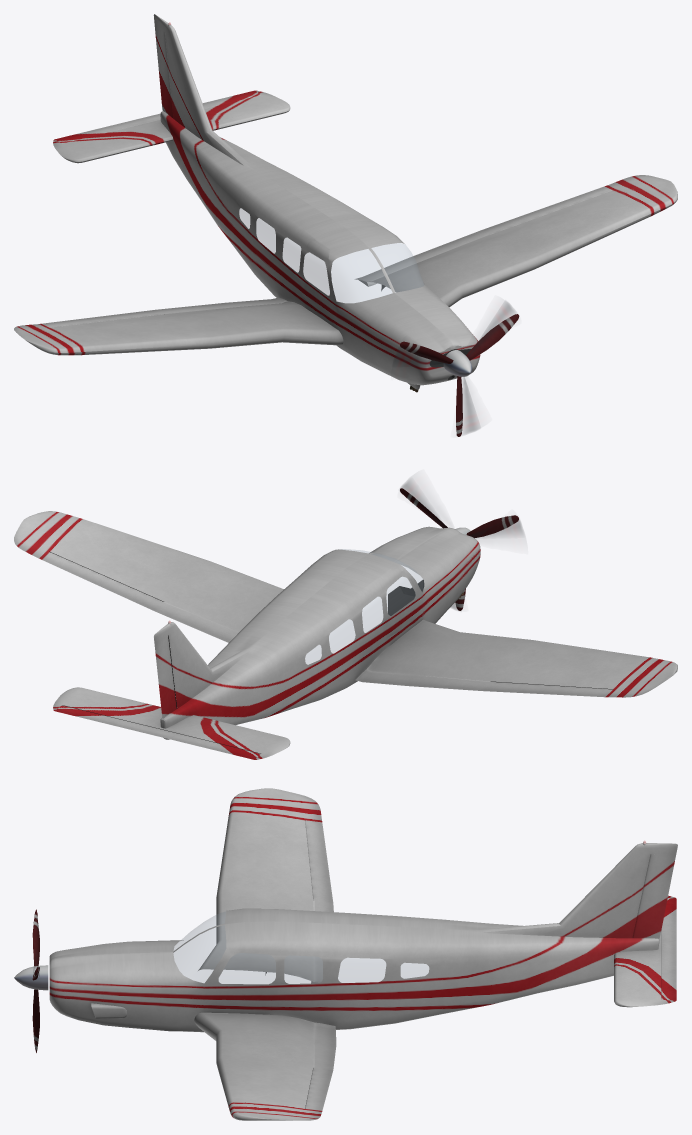
The picture shows the model from 3 angles, top to bottom: view 1: azimuth 30°, elevation 25°; view 2: azimuth 150°, elevation 25°; view 3: azimuth 270°, elevation 25°; orthographic projection. The views are drawn at different scales.
Parts seen in each view (by area): view 1: fuselage, ailes, vitres, ailes2, helice, propblur, porte, voletG, profondeur, aileronG, direction, voletD (+2 smaller); view 2: fuselage, ailes, ailes2, profondeur, vitres, aileronG, voletD, porte, aileronD, direction, voletG, helice (+3 smaller); view 3: fuselage, ailes, vitres, ailes2, direction, aileronD, profondeur, voletG, aileronG, helice, bol.
Boxes of the visible parts, bbox=[...] form: fuselage: bbox=[153, 14, 480, 385]; ailes: bbox=[14, 175, 677, 355]; vitres: bbox=[239, 208, 423, 302]; ailes2: bbox=[53, 90, 290, 163]; helice: bbox=[400, 314, 519, 436]; propblur: bbox=[394, 303, 513, 432]; porte: bbox=[301, 239, 332, 323]; voletG: bbox=[357, 230, 489, 286]; profondeur: bbox=[55, 90, 260, 143]; aileronG: bbox=[481, 186, 612, 234]; direction: bbox=[154, 24, 173, 118]; voletD: bbox=[155, 298, 286, 313]; fuselage: bbox=[154, 526, 480, 739]; ailes: bbox=[14, 511, 677, 697]; ailes2: bbox=[53, 687, 290, 759]; profondeur: bbox=[55, 705, 260, 759]; vitres: bbox=[305, 549, 423, 664]; aileronG: bbox=[41, 552, 163, 611]; voletD: bbox=[356, 669, 489, 690]; porte: bbox=[377, 568, 418, 638]; aileronD: bbox=[481, 681, 612, 697]; direction: bbox=[154, 636, 176, 717]; voletG: bbox=[155, 602, 238, 642]; helice: bbox=[400, 488, 518, 610]; fuselage: bbox=[49, 843, 677, 1032]; ailes: bbox=[194, 788, 335, 1120]; vitres: bbox=[173, 912, 428, 983]; ailes2: bbox=[614, 895, 675, 1007]; direction: bbox=[632, 853, 676, 937]; aileronD: bbox=[305, 820, 333, 902]; profondeur: bbox=[661, 898, 676, 1000]; voletG: bbox=[314, 1022, 336, 1069]; aileronG: bbox=[305, 1067, 333, 1110]; helice: bbox=[32, 909, 39, 1052]; bol: bbox=[14, 965, 48, 990].
Bounding box in the file's own units: 9.88 × 2.97 × 8.37.
Materials: 4 (2 with a texture image).
